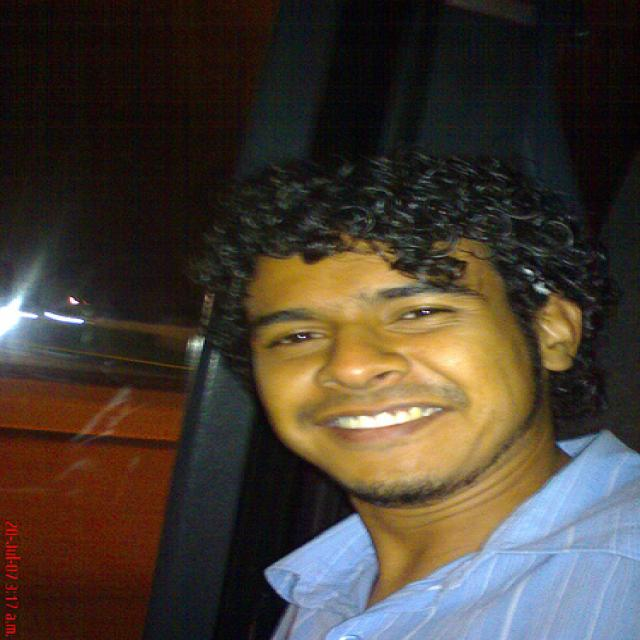person: (191, 147, 640, 640)
